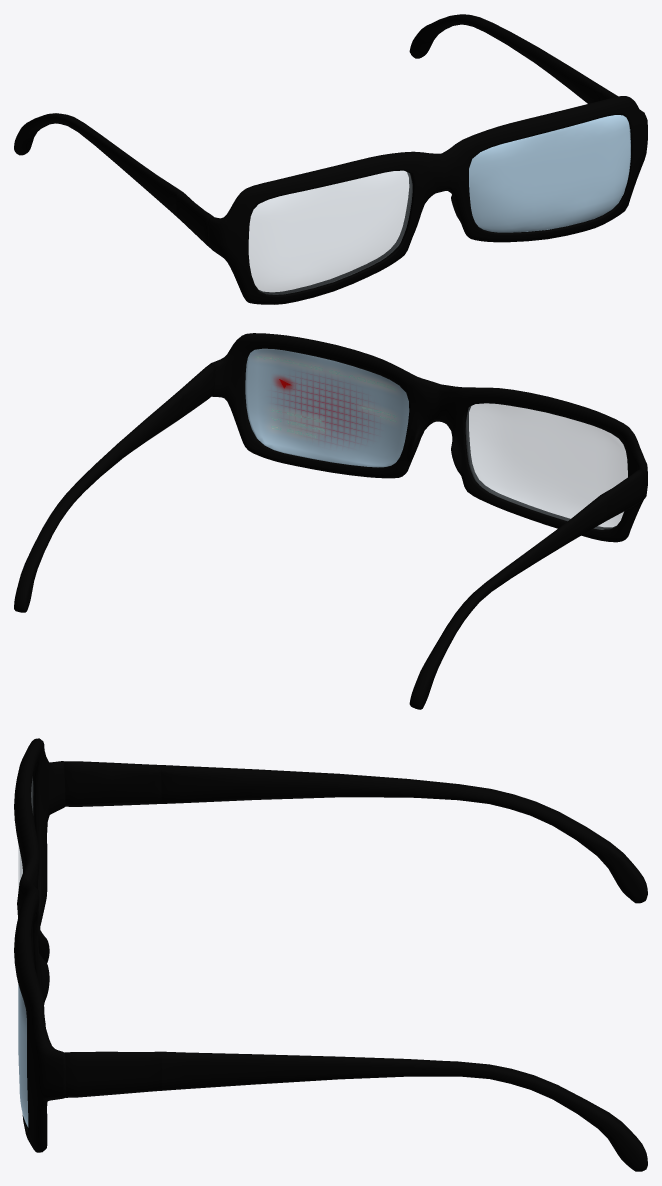
The model's file is Glasses.fbx.
3 renders of one model, top to bottom at view 1: azimuth 30°, elevation 25°; view 2: azimuth 150°, elevation 25°; view 3: azimuth 270°, elevation 25°, orthographic. The views are drawn at different scales.
Visible parts, largest first — view 1: yanjing02:pCube1, yanjing02:pCube3, yanjing02:pCube5; view 2: yanjing02:pCube1, yanjing02:pCube3, yanjing02:pCube5; view 3: yanjing02:pCube1, yanjing02:pCube3.
Part boxes in pixels (x1=…): yanjing02:pCube1: x1=14, y1=14, x2=647, y2=304; yanjing02:pCube3: x1=469, y1=115, x2=630, y2=232; yanjing02:pCube5: x1=249, y1=171, x2=412, y2=294; yanjing02:pCube1: x1=14, y1=333, x2=647, y2=709; yanjing02:pCube3: x1=245, y1=348, x2=409, y2=467; yanjing02:pCube5: x1=466, y1=403, x2=627, y2=529; yanjing02:pCube1: x1=14, y1=738, x2=647, y2=1171; yanjing02:pCube3: x1=18, y1=984, x2=28, y2=1127.
Size of the model in its own units: 22.7 by 6.34 by 20.55.
